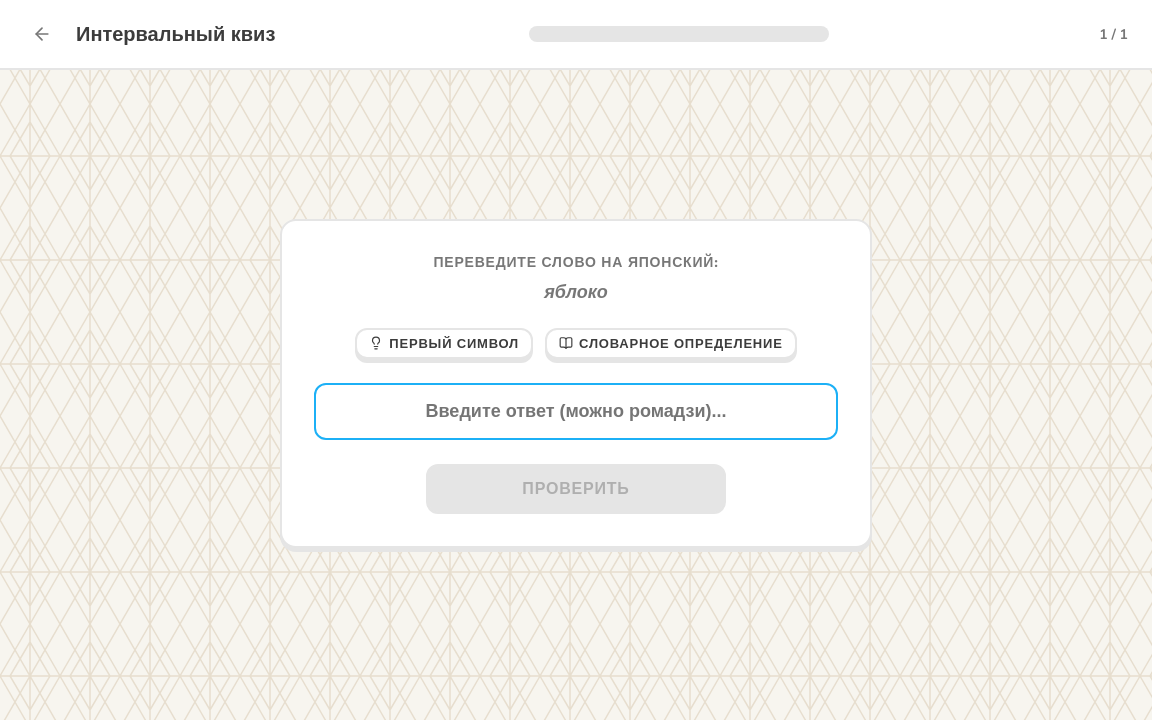
Test: QuizPage Component › shows first character hint on request
Expected: the text "яблоко" is shown, x1=544 y1=280 x2=608 y2=304
# Click hint button
Click the button "Первый символ": (444, 343) x1=355 y1=328 x2=533 y2=358
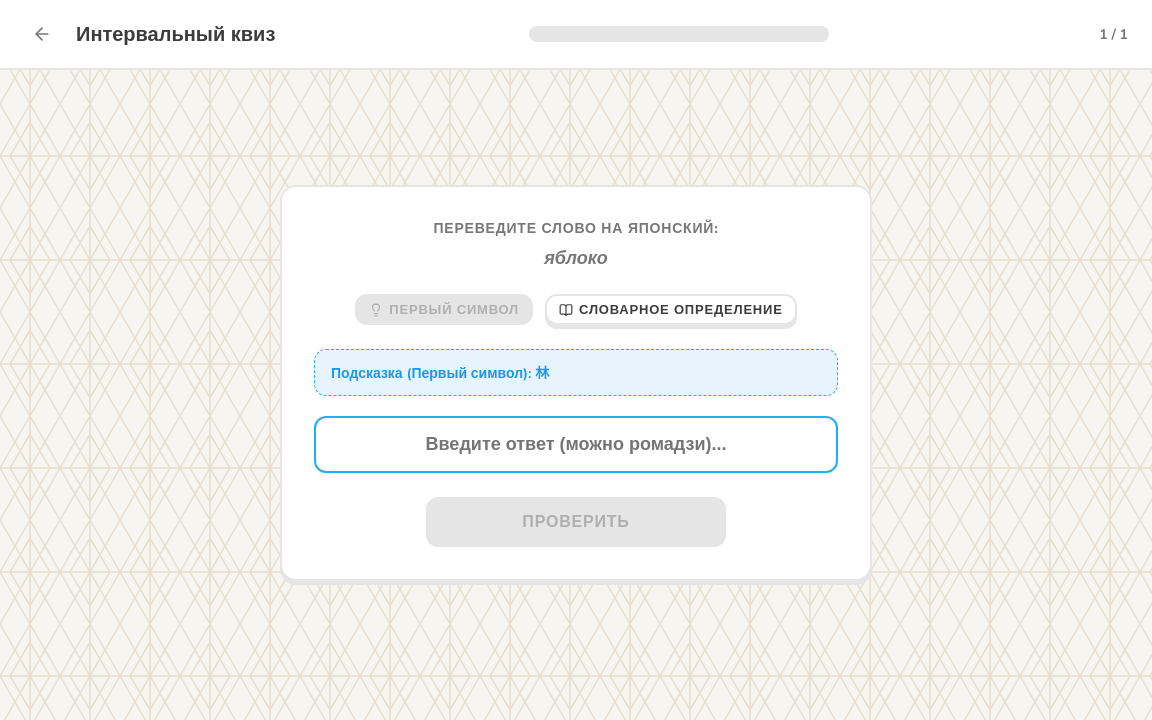
Expected: the text "Подсказка (Первый символ):" is shown, x1=331 y1=364 x2=532 y2=383
Expected: the text "林" is shown, x1=535 y1=364 x2=549 y2=383
